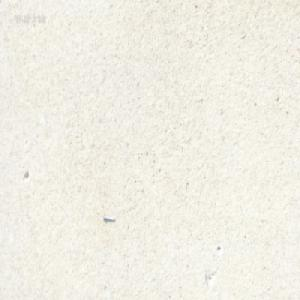Nail: (101, 212, 116, 222)
